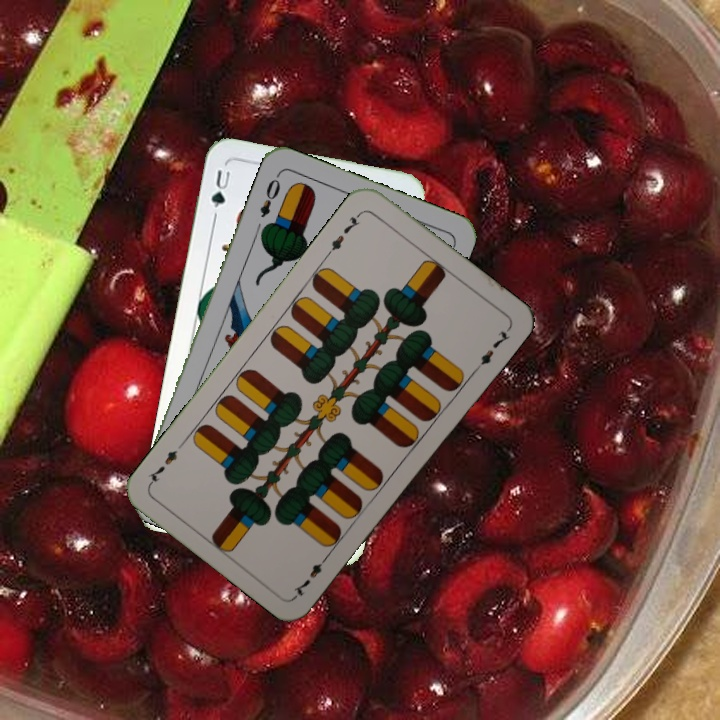E7: (289, 550, 332, 600), (323, 208, 365, 258)
EO: (255, 170, 283, 220)
GU: (207, 166, 233, 211)
